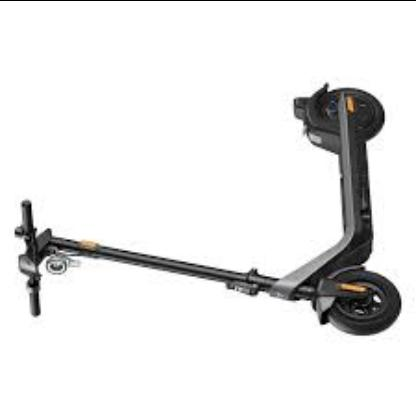bike: (14, 83, 403, 338)
